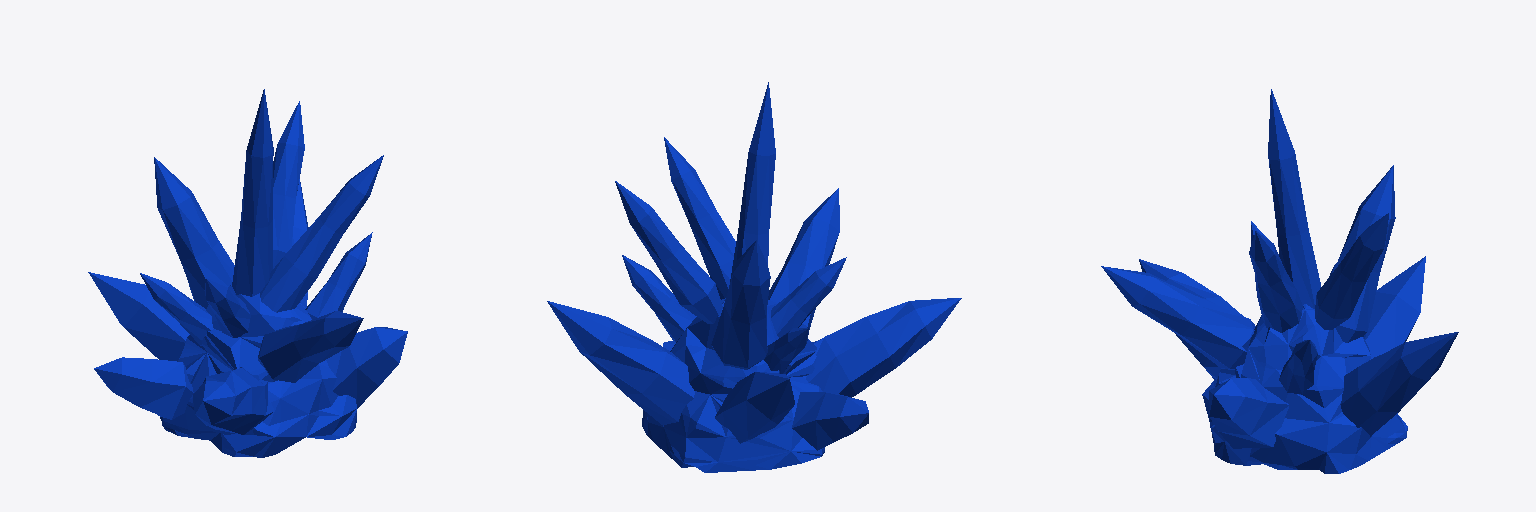
Rendered from CelestialRock.obj.
The picture shows the model from 3 angles: view 1: azimuth 30°, elevation 25°; view 2: azimuth 150°, elevation 25°; view 3: azimuth 270°, elevation 25°; orthographic projection.
Visible parts, largest first — view 1: Cylinder.006; view 2: Cylinder.006; view 3: Cylinder.006.
Part boxes in pixels (x1,y1,x2,y2): Cylinder.006: (88,89,407,457); Cylinder.006: (547,82,961,472); Cylinder.006: (1101,89,1458,473).
Bounding box in the file's own units: 1.44 × 1.78 × 1.69.